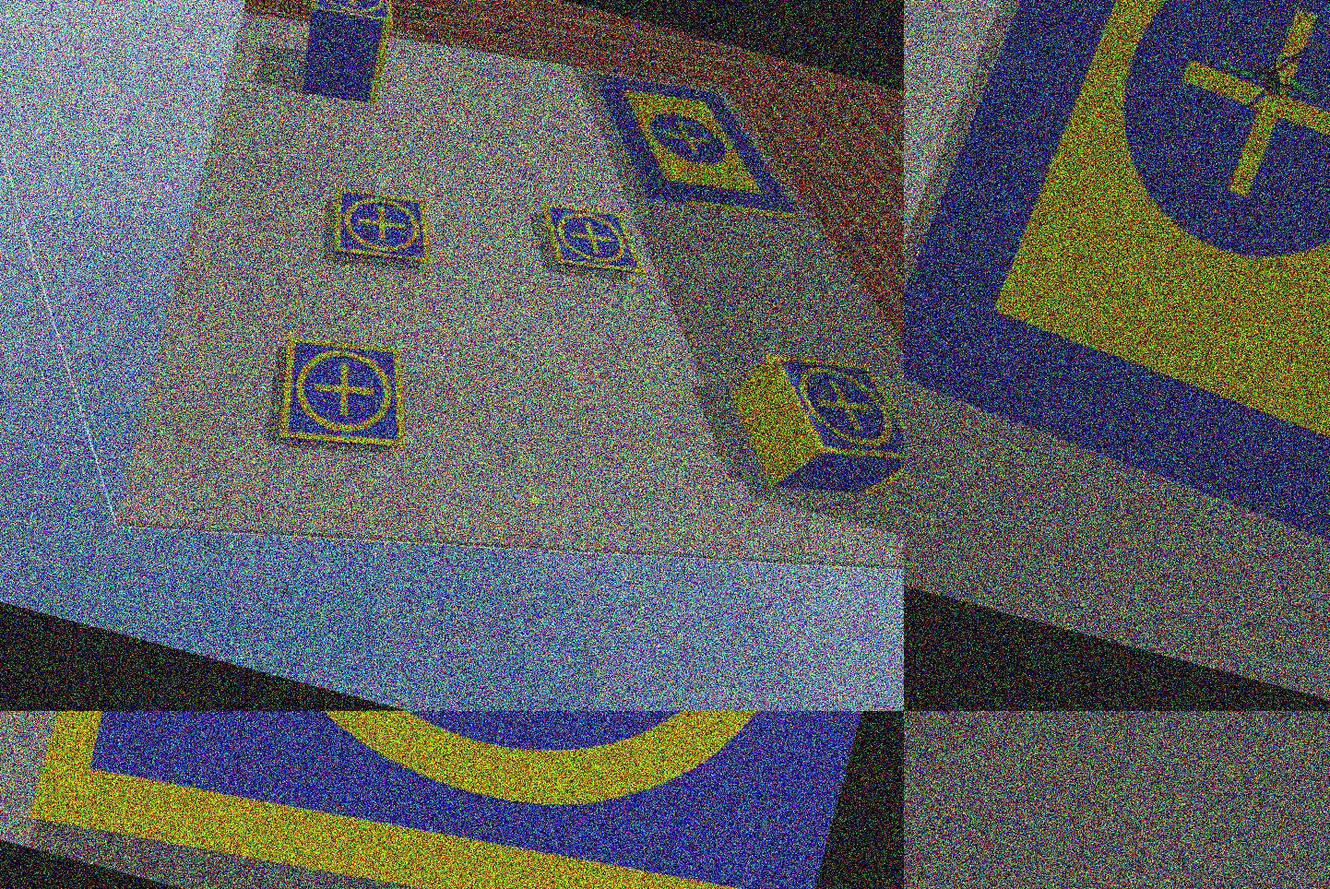large_base: (904, 1, 1330, 583), (563, 65, 825, 245)
small_base: (29, 712, 904, 889), (261, 323, 425, 476), (745, 341, 904, 487), (315, 180, 445, 284), (529, 197, 655, 291), (303, 1, 403, 31)
